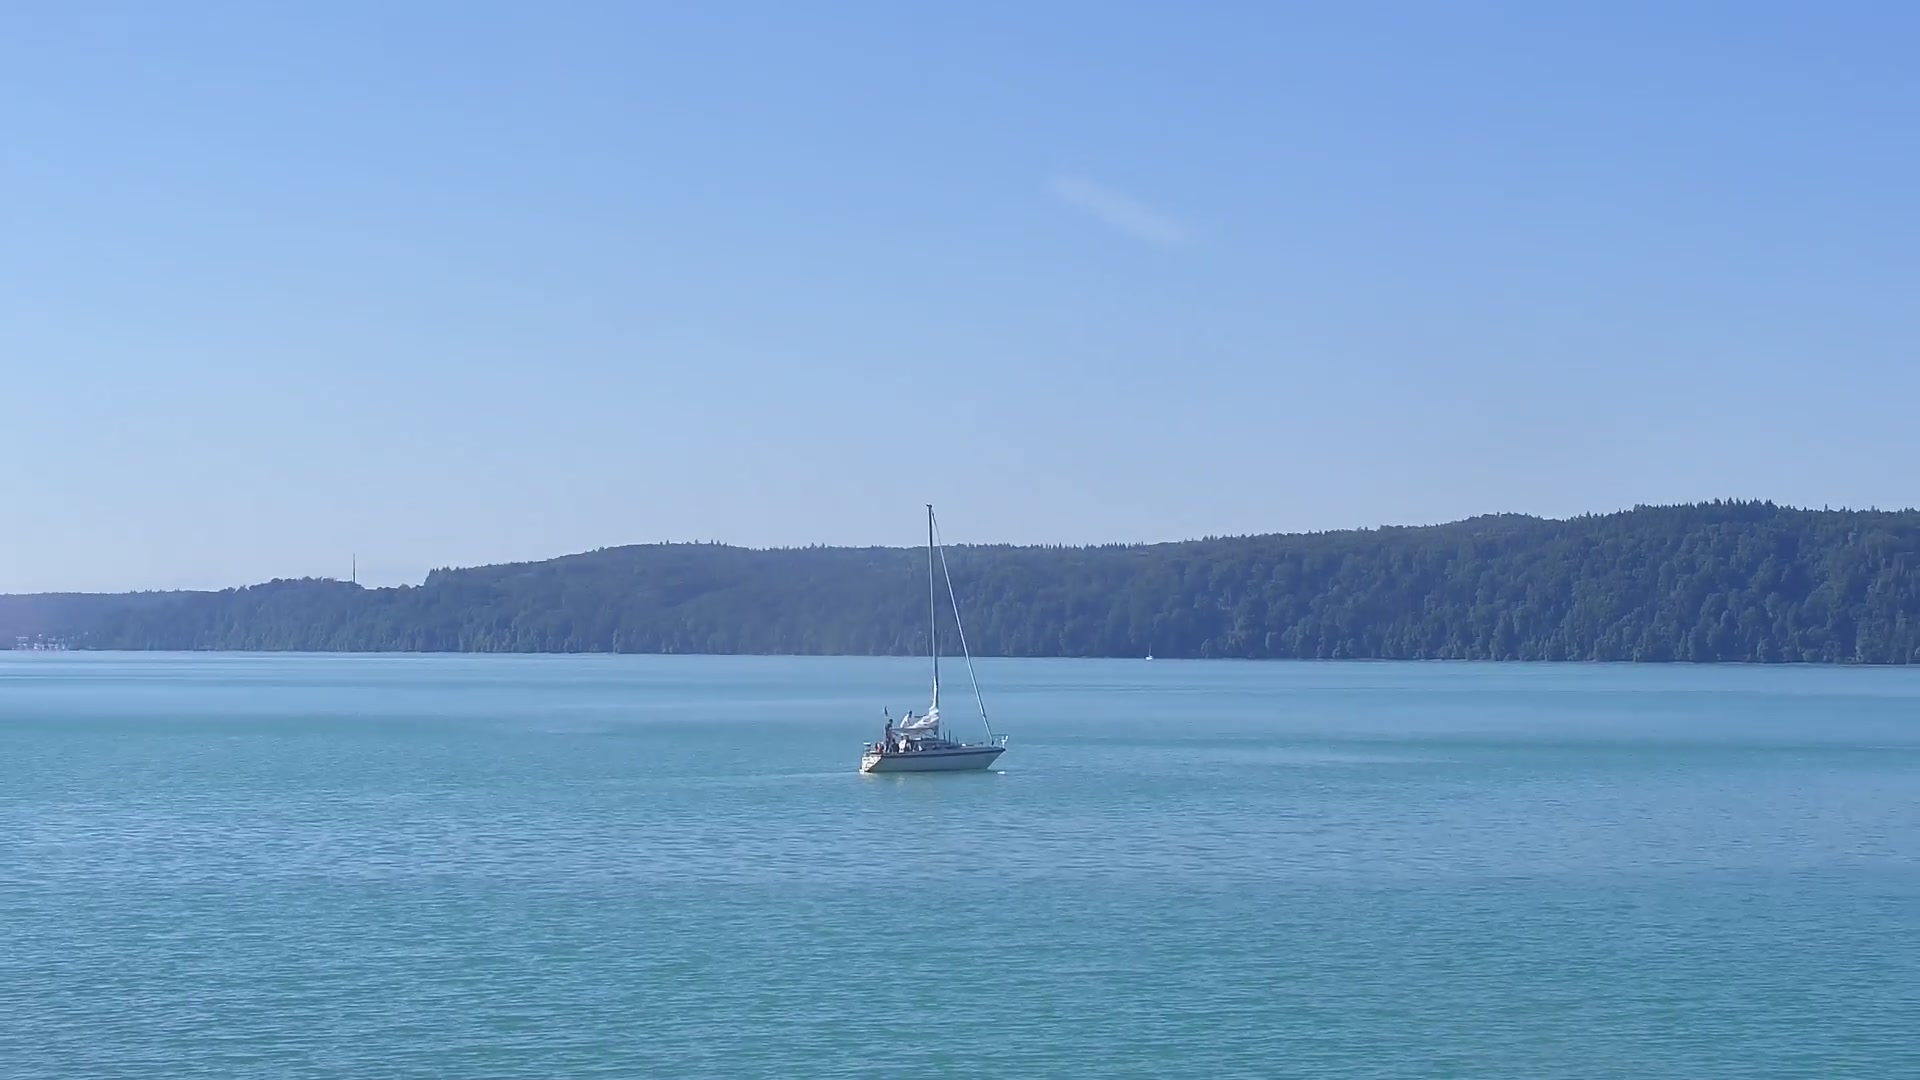human: (900, 709, 914, 739), (885, 717, 895, 753)
sea: (857, 501, 1009, 773), (1145, 641, 1154, 661)
